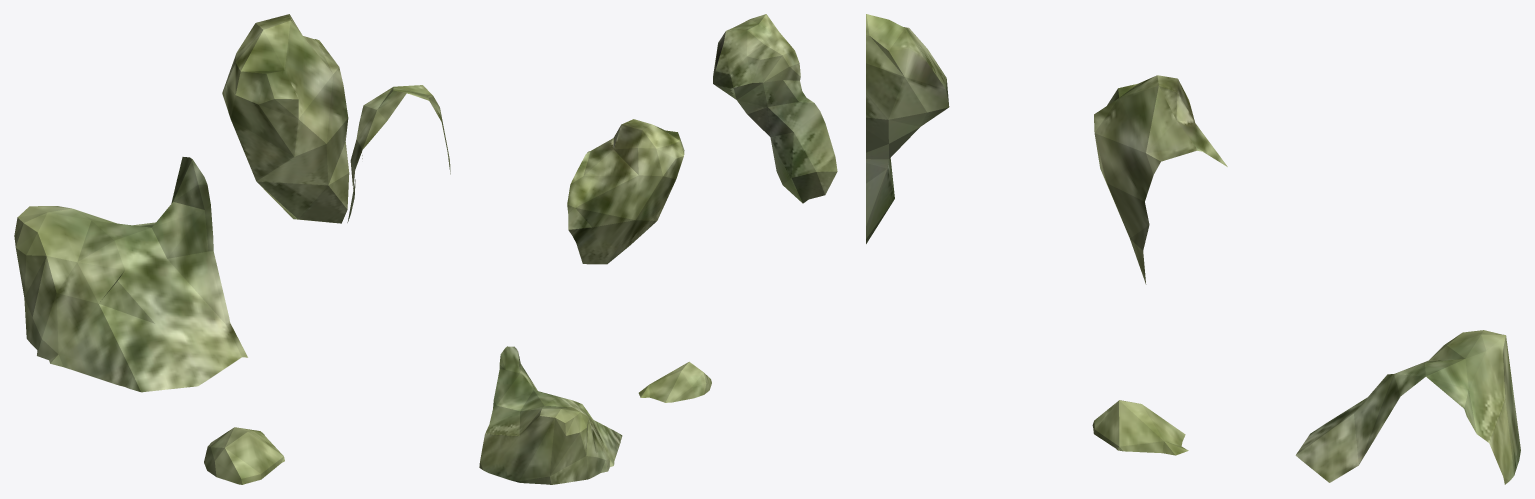
3 views of the same model, side by side, from view 1: azimuth 30°, elevation 25°; view 2: azimuth 150°, elevation 25°; view 3: azimuth 270°, elevation 25° (orthographic). The views are drawn at different scales.
Bounding box in the file's own units: 0.8538 × 1.87 × 2.59.
Materials: 1 (1 with a texture image).
